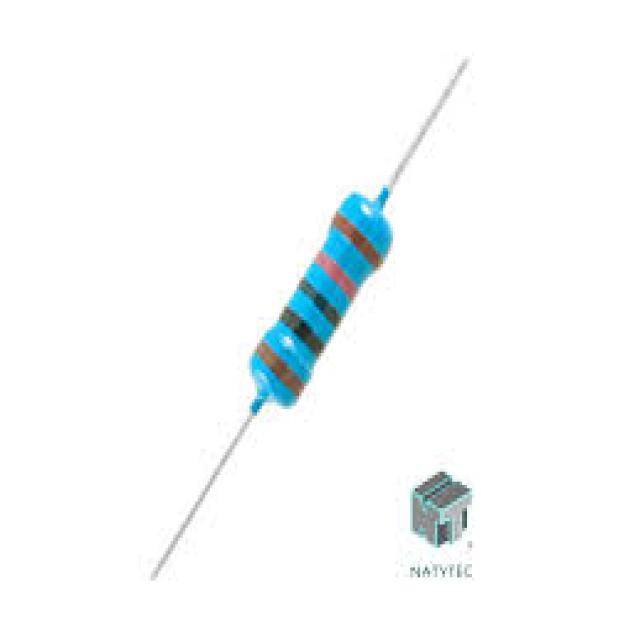Resistor: (249, 189, 394, 416)
